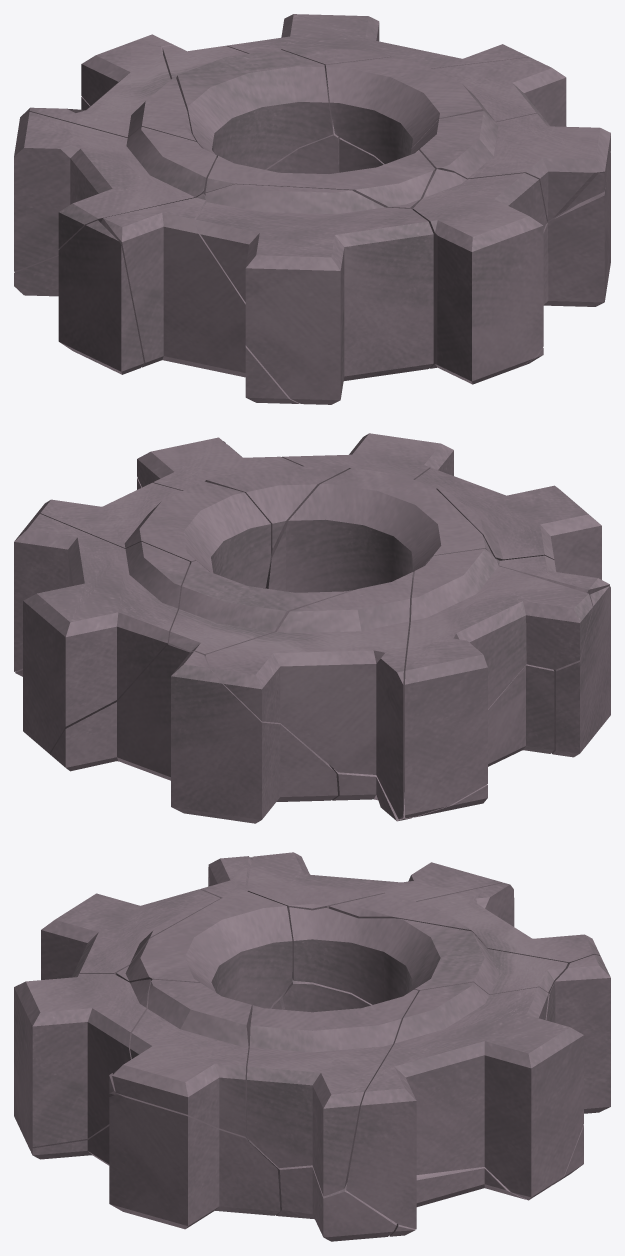
The model's file is Cogwheel Fractured.fbx.
The picture shows the model from 3 angles, top to bottom: view 1: azimuth 30°, elevation 25°; view 2: azimuth 150°, elevation 25°; view 3: azimuth 270°, elevation 25°; orthographic projection.
Visible parts, largest first — view 1: Cogwheel_cell.012, Cogwheel_cell.015, Cogwheel_cell, Cogwheel_cell.007, Cogwheel_cell.002, Cogwheel_cell.004, Cogwheel_cell.008, Cogwheel_cell.018, Cogwheel_cell.014, Cogwheel_cell.016, Cogwheel_cell.001, Cogwheel_cell.017 (+3 smaller); view 2: Cogwheel_cell, Cogwheel_cell.001, Cogwheel_cell.014, Cogwheel_cell.003, Cogwheel_cell.017, Cogwheel_cell.002, Cogwheel_cell.012, Cogwheel_cell.008, Cogwheel_cell.004, Cogwheel_cell.018, Cogwheel_cell.013, Cogwheel_cell.015 (+2 smaller); view 3: Cogwheel_cell.001, Cogwheel_cell.002, Cogwheel_cell.015, Cogwheel_cell.016, Cogwheel_cell.004, Cogwheel_cell.008, Cogwheel_cell.017, Cogwheel_cell.012, Cogwheel_cell.014, Cogwheel_cell, Cogwheel_cell.003, Cogwheel_cell.009 (+3 smaller).
Boxes of the visible parts, x1,y1,x2,y2 form: Cogwheel_cell.012: (196, 184, 433, 404); Cogwheel_cell.015: (413, 169, 546, 384); Cogwheel_cell: (14, 111, 216, 271); Cogwheel_cell.007: (101, 193, 299, 403); Cogwheel_cell.002: (326, 57, 566, 163); Cogwheel_cell.004: (162, 45, 332, 169); Cogwheel_cell.008: (410, 110, 610, 221); Cogwheel_cell.018: (58, 220, 143, 374); Cogwheel_cell.014: (20, 42, 196, 141); Cogwheel_cell.016: (520, 152, 610, 366); Cogwheel_cell.001: (226, 14, 529, 93); Cogwheel_cell.017: (205, 150, 435, 209); Cogwheel_cell: (405, 548, 592, 817); Cogwheel_cell.001: (14, 514, 190, 753); Cogwheel_cell.014: (206, 572, 412, 819); Cogwheel_cell.003: (50, 644, 337, 823); Cogwheel_cell.017: (266, 468, 493, 592); Cogwheel_cell.002: (33, 481, 270, 587); Cogwheel_cell.012: (415, 468, 601, 579); Cogwheel_cell.008: (137, 437, 348, 588); Cogwheel_cell.004: (169, 557, 431, 656); Cogwheel_cell.018: (551, 586, 610, 757); Cogwheel_cell.013: (414, 664, 554, 817); Cogwheel_cell.015: (281, 433, 453, 479); Cogwheel_cell.001: (346, 982, 583, 1229); Cogwheel_cell.002: (247, 989, 418, 1196); Cogwheel_cell.015: (14, 974, 151, 1150); Cogwheel_cell.016: (31, 1094, 280, 1229); Cogwheel_cell.004: (289, 907, 567, 1004); Cogwheel_cell.008: (112, 979, 252, 1140); Cogwheel_cell.017: (116, 891, 292, 1008); Cogwheel_cell.012: (41, 889, 220, 979); Cogwheel_cell.014: (329, 883, 600, 964); Cogwheel_cell: (246, 852, 502, 916); Cogwheel_cell.003: (545, 954, 610, 1185); Cogwheel_cell.009: (248, 1140, 396, 1241).
Bounding box in the file's own units: 73.61 × 24.18 × 73.61.
